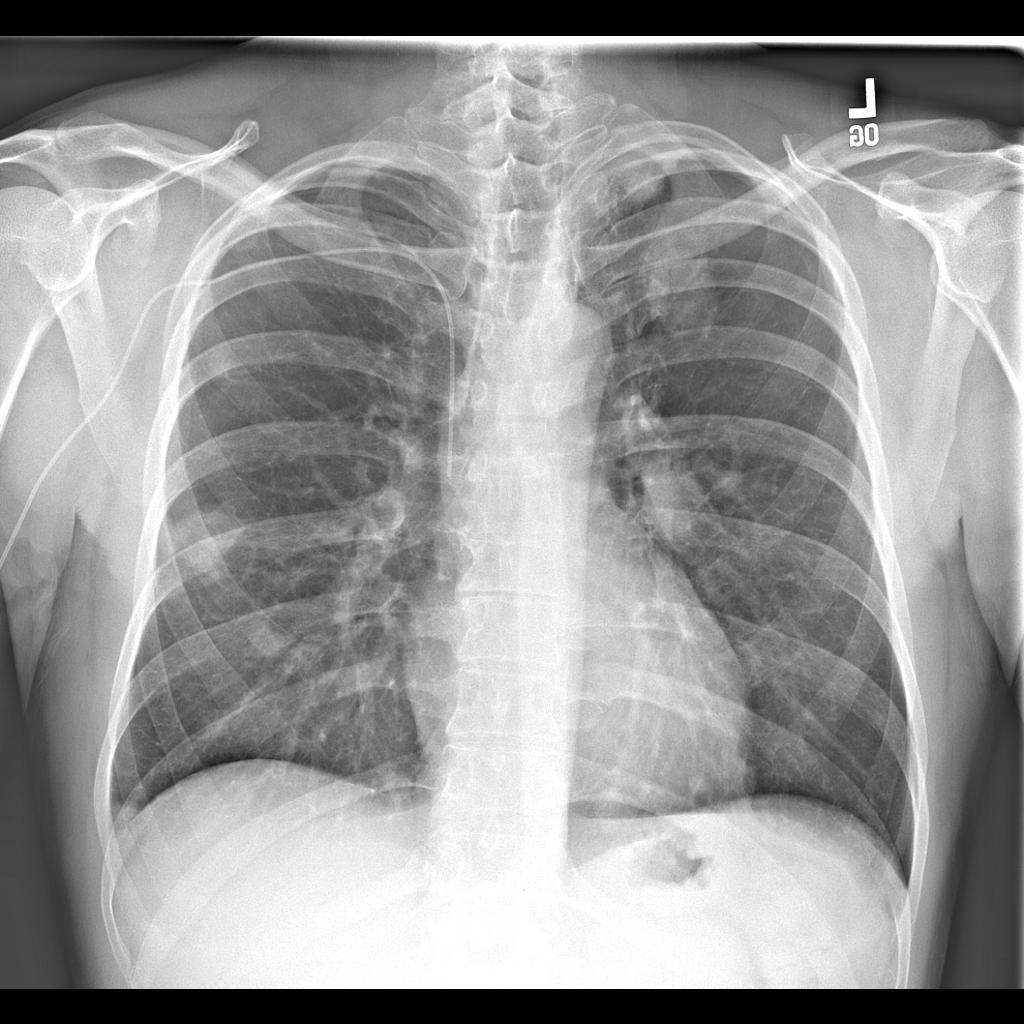Nodule: (640, 243, 728, 352), (173, 495, 252, 598), (615, 158, 680, 215)
